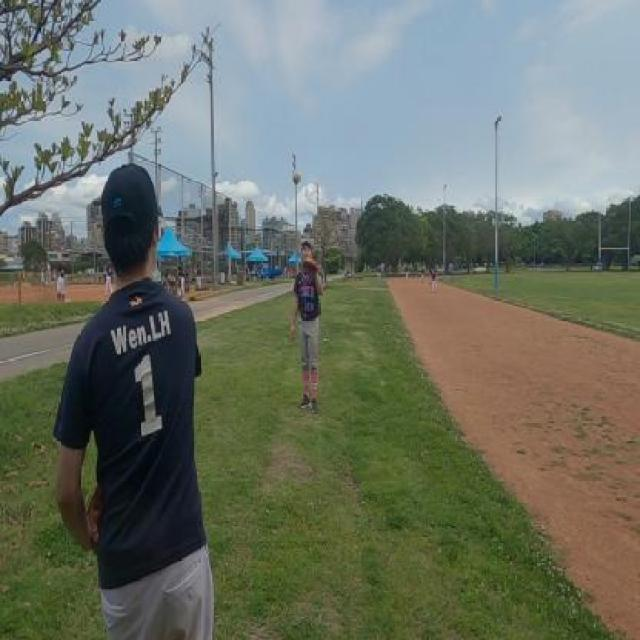baseball: (292, 170, 300, 184)
